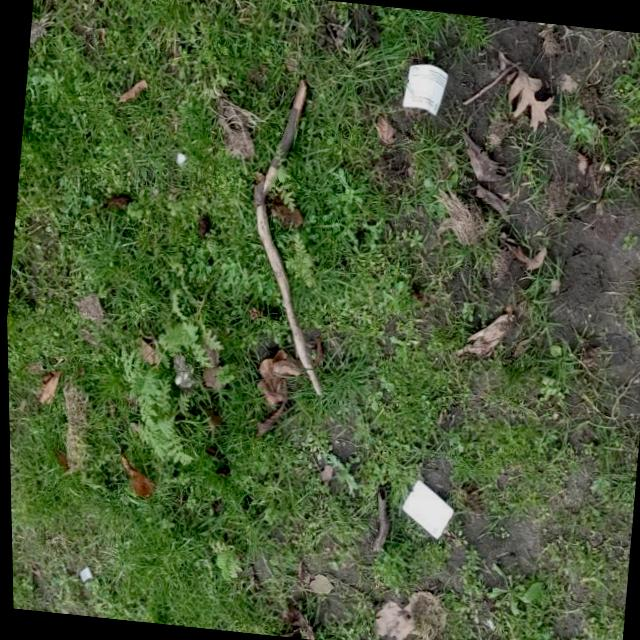Paper: (394, 475, 455, 541), (398, 59, 449, 116)
